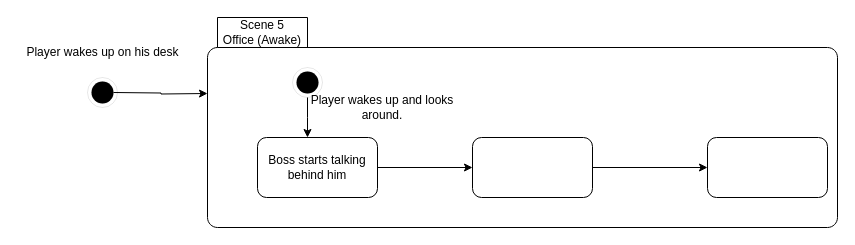
This 855x245 diagram has some shape labels left out. The centre of each missing label's shape, as x and y in pixels:
End: point 767,167
Game waits for 5 seconds: point 532,167
